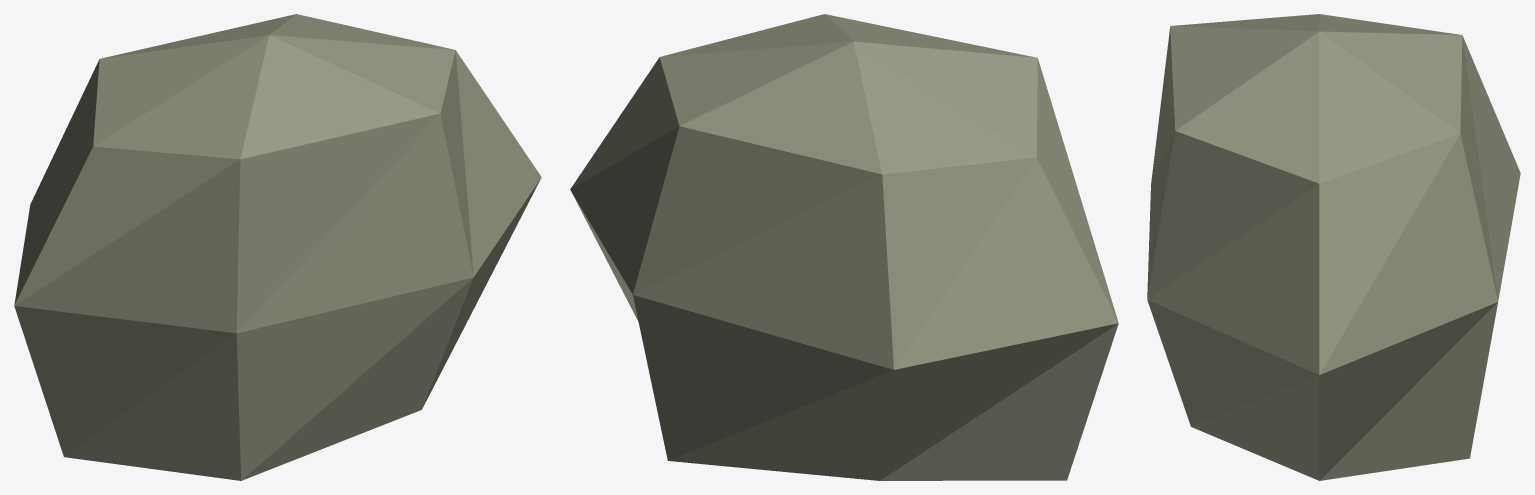
Rendered from rock_boulder_lod1.obj.
3 renders of one model, left to right at view 1: azimuth 30°, elevation 25°; view 2: azimuth 150°, elevation 25°; view 3: azimuth 270°, elevation 25°, orthographic. The views are drawn at different scales.
Parts seen in each view (by area): view 1: rock_boulder_lod1; view 2: rock_boulder_lod1; view 3: rock_boulder_lod1.
Part boxes in pixels (bbox=[...]): rock_boulder_lod1: bbox=[14, 14, 541, 480]; rock_boulder_lod1: bbox=[570, 14, 1118, 480]; rock_boulder_lod1: bbox=[1147, 14, 1520, 480].
Bounding box in the file's own units: 2.51 × 1.9 × 1.53.
1 material, 1 textured.
